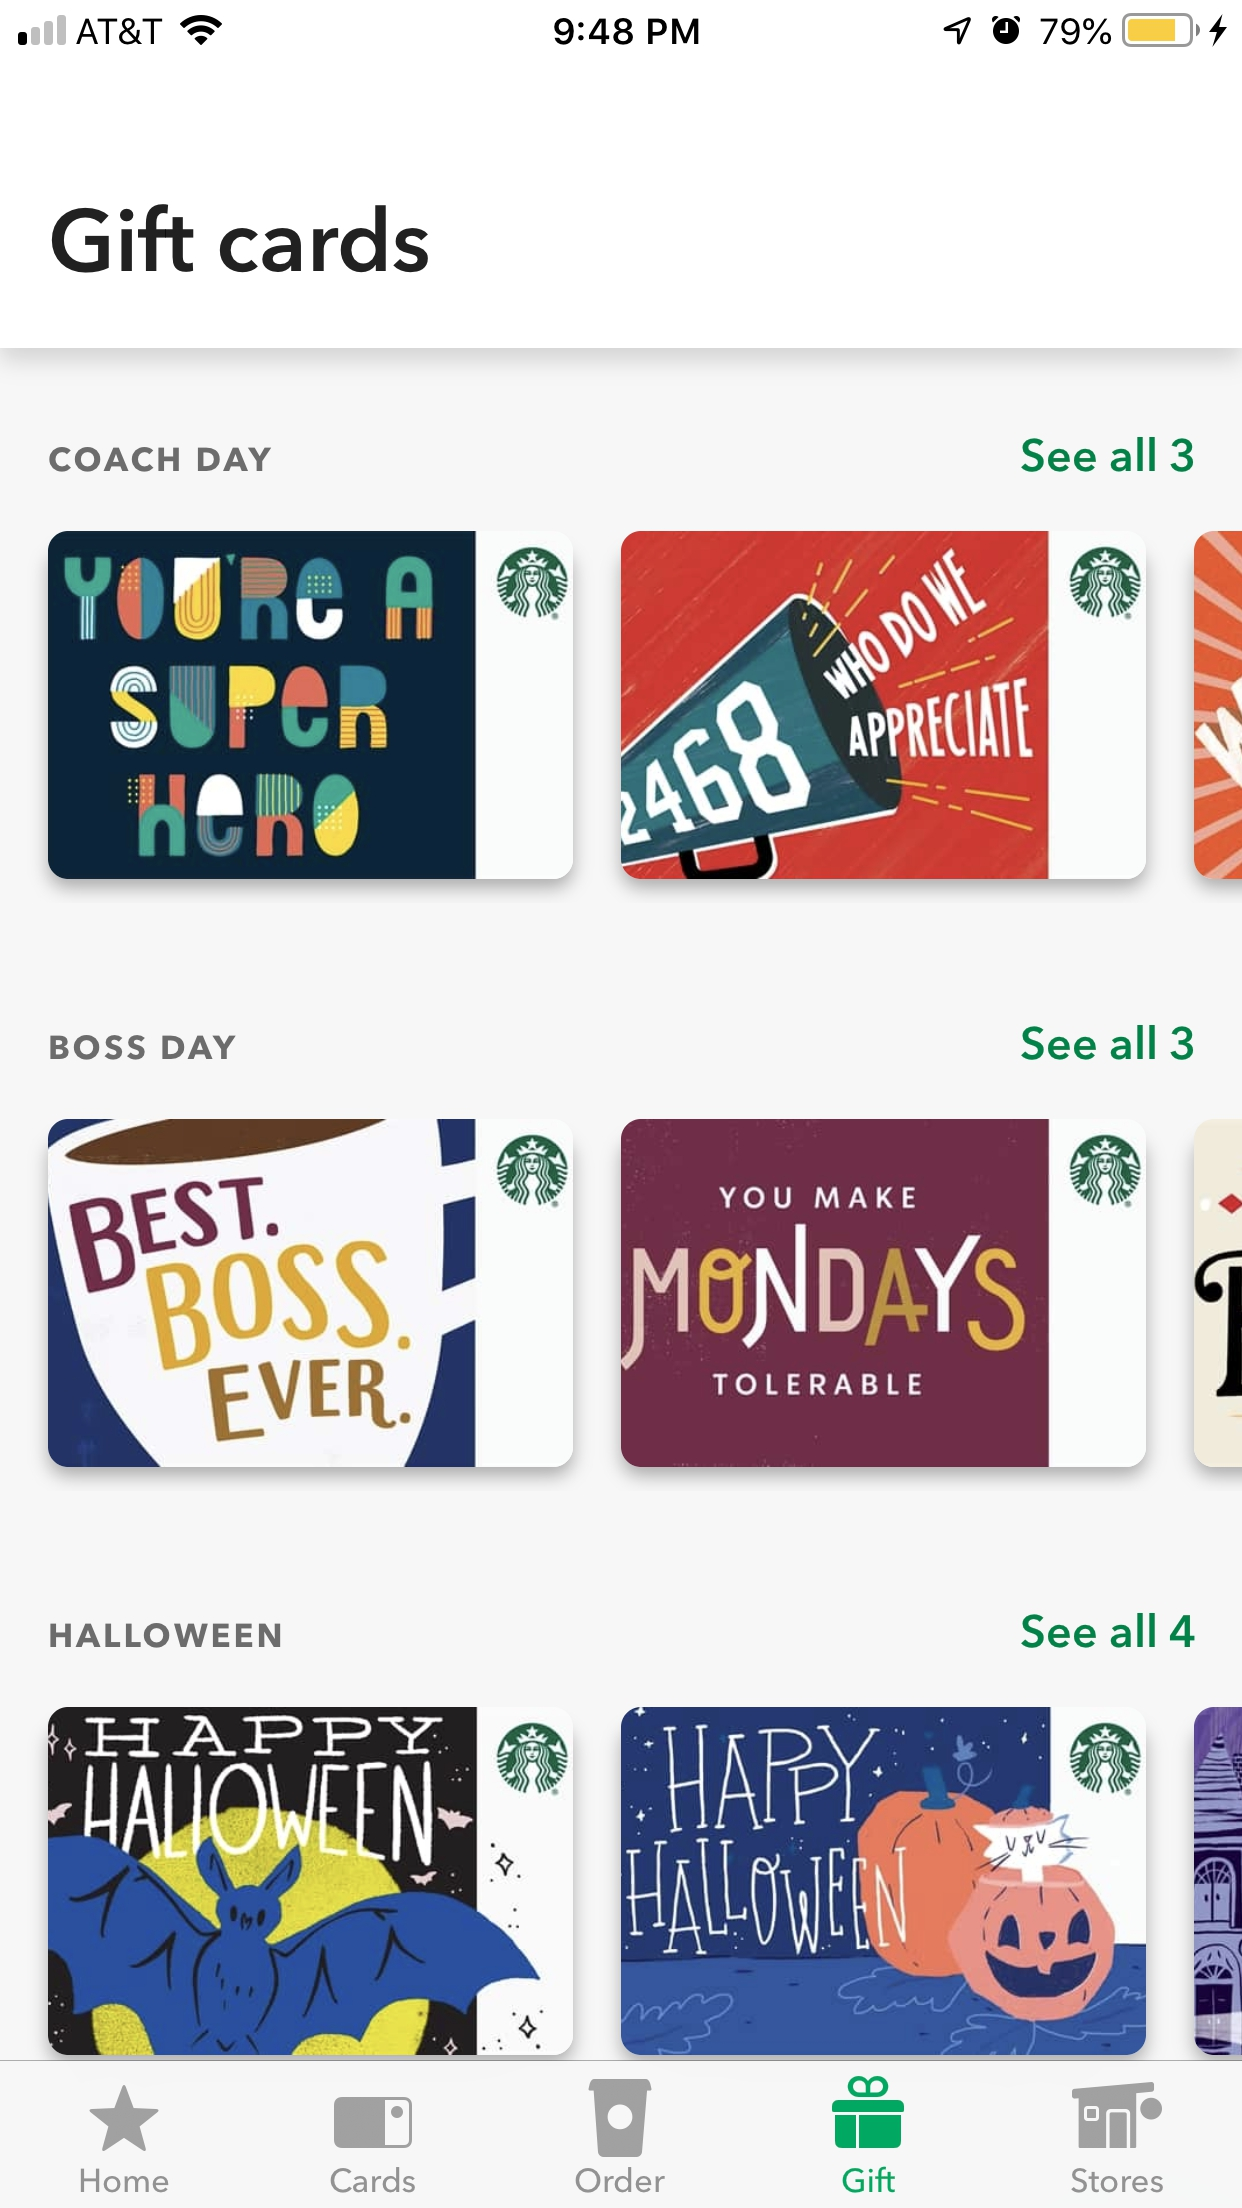Icon: (831, 2075, 905, 2149), (89, 2084, 161, 2152), (334, 2097, 412, 2149)
Image: (47, 1118, 575, 1468), (620, 1706, 1146, 2056), (49, 1706, 575, 2056), (49, 531, 575, 881), (622, 1118, 1146, 1468), (620, 531, 1146, 880), (1193, 1118, 1242, 1468), (1193, 531, 1242, 881), (1193, 1706, 1242, 2055), (1071, 2081, 1163, 2149), (588, 2078, 654, 2158)
Text: (52, 203, 429, 274), (1021, 1612, 1197, 1650), (1021, 1024, 1193, 1062), (1021, 437, 1193, 473), (49, 447, 273, 475), (49, 1623, 282, 1648), (52, 1036, 237, 1060), (1071, 2167, 1165, 2194), (331, 2166, 417, 2194), (575, 2167, 666, 2194), (80, 2167, 170, 2193), (842, 2166, 896, 2194)
UpperTaskBar: (2, 2, 1242, 49)
